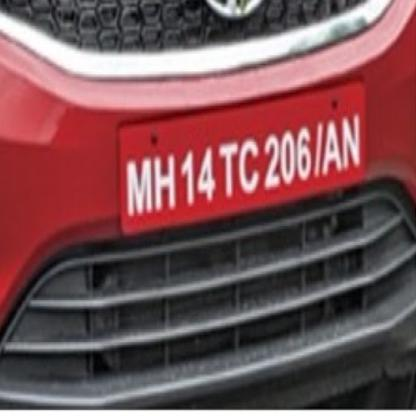license_plate: (114, 77, 363, 235)
